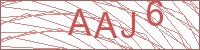A: (67, 7, 93, 37), (93, 10, 119, 40)
J: (118, 10, 138, 39)
L: (145, 1, 166, 28)
